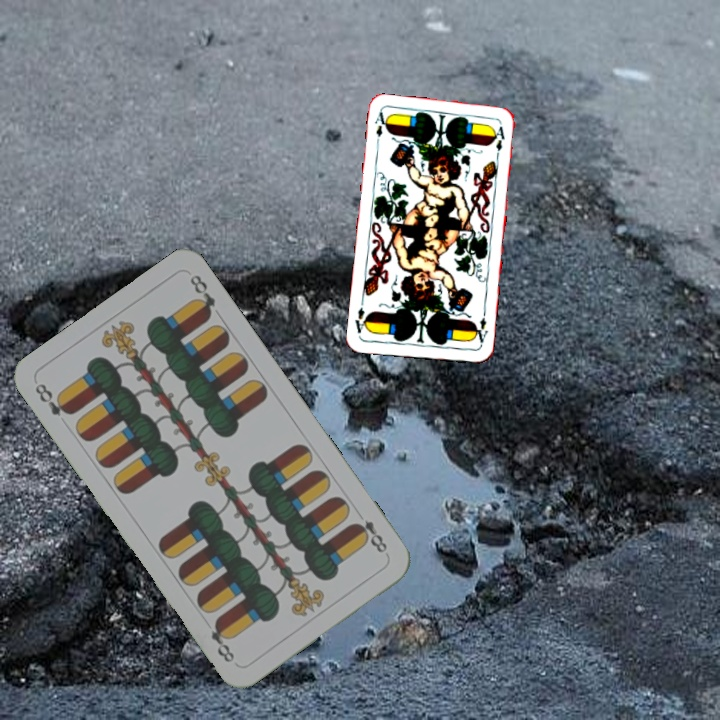E8: (30, 379, 75, 419), (349, 516, 390, 556)
EA: (470, 307, 490, 348), (371, 108, 390, 149)
